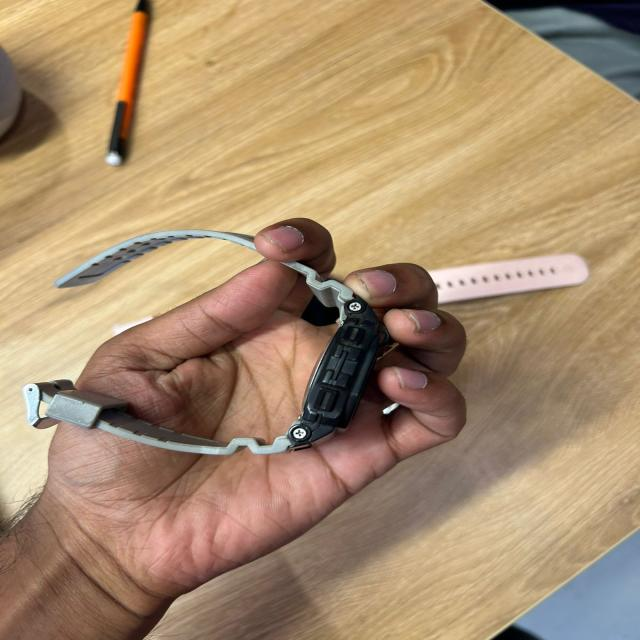watch: (23, 228, 393, 458)
